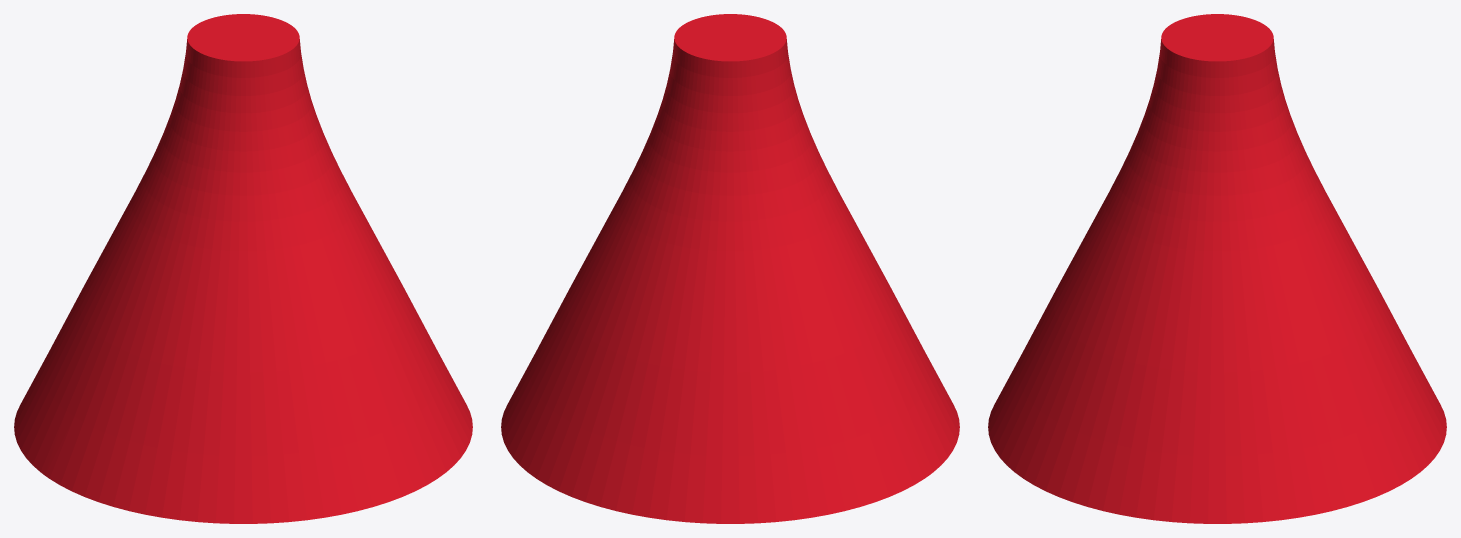
The model's file is NaroBody_3.dae.
3 views of the same model, side by side, from view 1: azimuth 30°, elevation 25°; view 2: azimuth 150°, elevation 25°; view 3: azimuth 270°, elevation 25° (orthographic).
Parts seen in each view (by area): view 1: NaroBody_3; view 2: NaroBody_3; view 3: NaroBody_3.
Part boxes in pixels (x1,y1,x2,y2): NaroBody_3: [14, 14, 472, 523]; NaroBody_3: [501, 14, 959, 523]; NaroBody_3: [988, 14, 1446, 523].
Bounding box in the file's own units: 0.0572 × 0.0572 × 0.0536.
